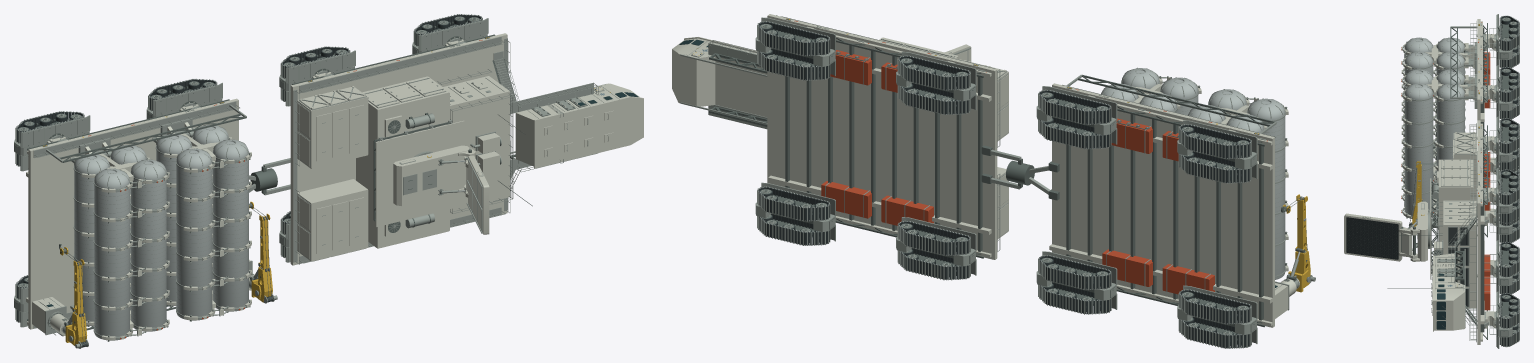
Rendered from leviathan003.glb.
3 views of the same model, side by side, from view 1: azimuth 30°, elevation 25°; view 2: azimuth 150°, elevation 25°; view 3: azimuth 270°, elevation 25° (orthographic). The views are drawn at different scales.
Parts seen in each view (by area): view 1: front__ivory, rear__silver, rear__ivory, front__edge, rear__edge, rear__steel, rear__yellow, front__steel, rear_bogie_aft_left__edge, front_bogie_aft_left__edge, front_bogie_fore_left__edge, rear_bogie_fore_left__edge (+5 smaller); view 2: front__ivory, rear__ivory, rear__steel, front__steel, rear__silver, rear__orange, front__orange, front__edge, rear__edge, front_bogie_aft_left__edge, front_bogie_aft_right__edge, front_bogie_aft_left__track (+14 smaller); view 3: front__ivory, rear__silver, front__edge, rear__edge, rear__ivory, front__black, front__steel, rear__steel, front_bogie_fore_left__edge, front_bogie_fore_right__edge, rear_bogie_aft_left__edge, front_bogie_aft_left__edge (+21 smaller).
Boxes of the visible parts, x1,y1,x2,y2 form: front__ivory: [290, 33, 643, 265]; rear__silver: [74, 125, 248, 340]; rear__ivory: [26, 98, 254, 340]; front__edge: [263, 36, 619, 264]; rear__edge: [33, 101, 277, 348]; rear__steel: [27, 99, 273, 347]; rear__yellow: [43, 102, 272, 345]; front__steel: [250, 34, 595, 232]; rear_bogie_aft_left__edge: [14, 111, 90, 171]; front_bogie_aft_left__edge: [279, 46, 355, 106]; front_bogie_fore_left__edge: [412, 14, 488, 54]; rear_bogie_fore_left__edge: [146, 78, 222, 118]; front__ivory: [672, 14, 1008, 259]; rear__ivory: [1049, 76, 1299, 327]; rear__steel: [1048, 74, 1307, 327]; front__steel: [700, 18, 1034, 258]; rear__silver: [1101, 68, 1300, 279]; rear__orange: [1075, 89, 1267, 294]; front__orange: [794, 20, 986, 225]; front__edge: [680, 15, 1021, 251]; rear__edge: [1029, 67, 1315, 310]; front_bogie_aft_left__edge: [896, 51, 976, 114]; front_bogie_aft_right__edge: [896, 217, 976, 280]; front_bogie_aft_left__track: [898, 56, 969, 114]; front__ivory: [1344, 120, 1498, 344]; rear__silver: [1405, 37, 1464, 218]; front__edge: [1362, 123, 1494, 342]; rear__edge: [1402, 21, 1494, 235]; rear__ivory: [1401, 19, 1498, 229]; front__black: [1346, 217, 1468, 326]; front__steel: [1387, 125, 1495, 339]; rear__steel: [1404, 23, 1495, 237]; front_bogie_fore_left__edge: [1489, 168, 1519, 225]; front_bogie_fore_right__edge: [1489, 291, 1519, 348]; rear_bogie_aft_left__edge: [1489, 14, 1519, 70]; front_bogie_aft_left__edge: [1489, 116, 1519, 173].
Bounding box in the file's own units: 92.65 × 29.4 × 30.4.
